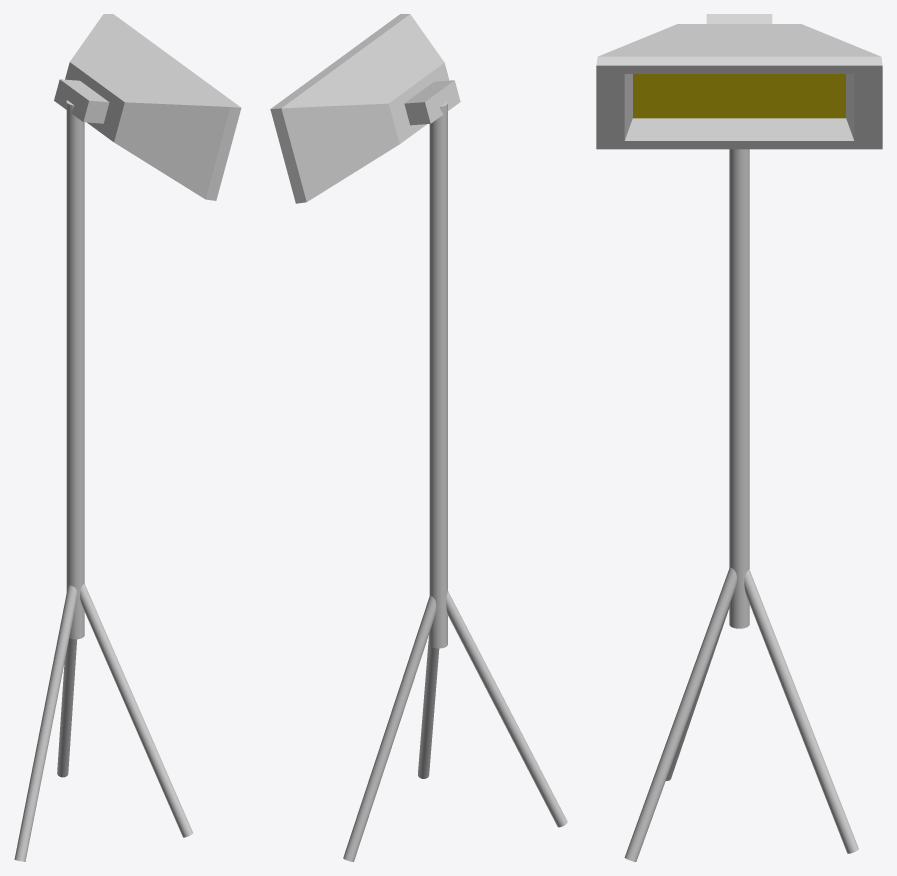
Rendered from light.fbx.
The picture shows the model from 3 angles, left to right: view 1: azimuth 30°, elevation 25°; view 2: azimuth 150°, elevation 25°; view 3: azimuth 270°, elevation 25°; orthographic projection. The views are drawn at different scales.
Parts seen in each view (by area): view 1: Cylinder; view 2: Cylinder; view 3: Cylinder.
Part boxes in pixels (x1,y1,x2,y2): Cylinder: [14, 14, 241, 861]; Cylinder: [270, 14, 567, 861]; Cylinder: [596, 14, 882, 861].
Size of the model in its own units: 0.553 by 2 by 0.6279.
